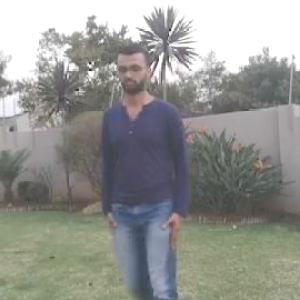follow: (122, 52, 190, 299)
